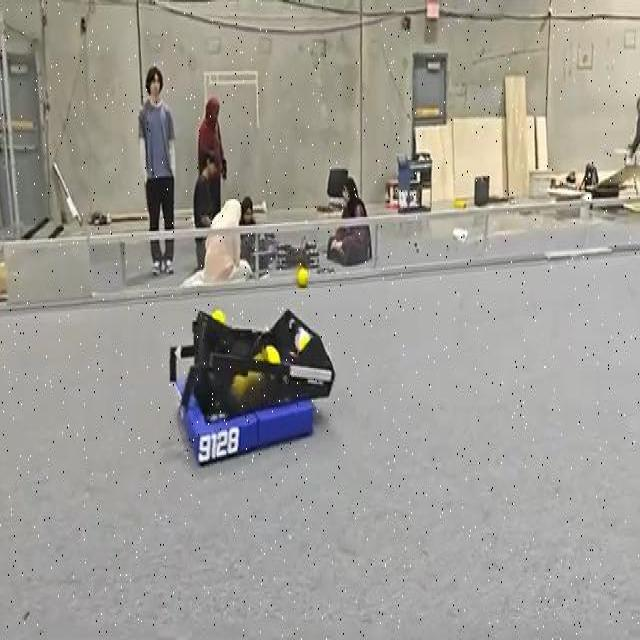Fuel: (260, 345, 280, 365), (296, 267, 308, 288), (212, 309, 226, 324), (297, 267, 307, 286), (212, 310, 225, 324)
